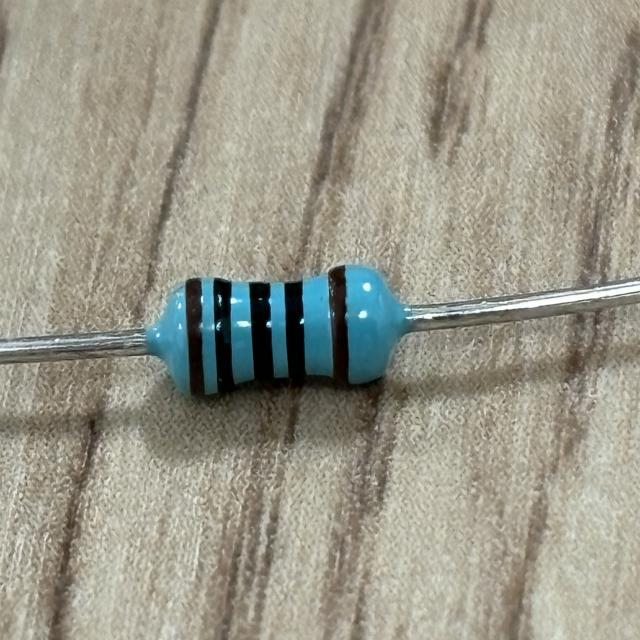resistor: (171, 260, 380, 402)
